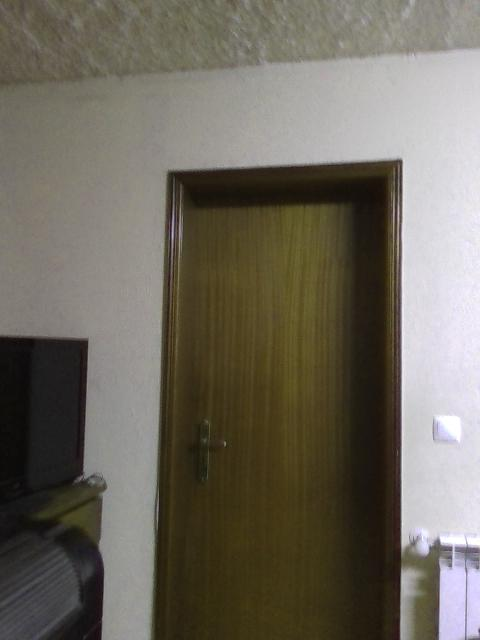closed_door: (151, 160, 399, 639)
